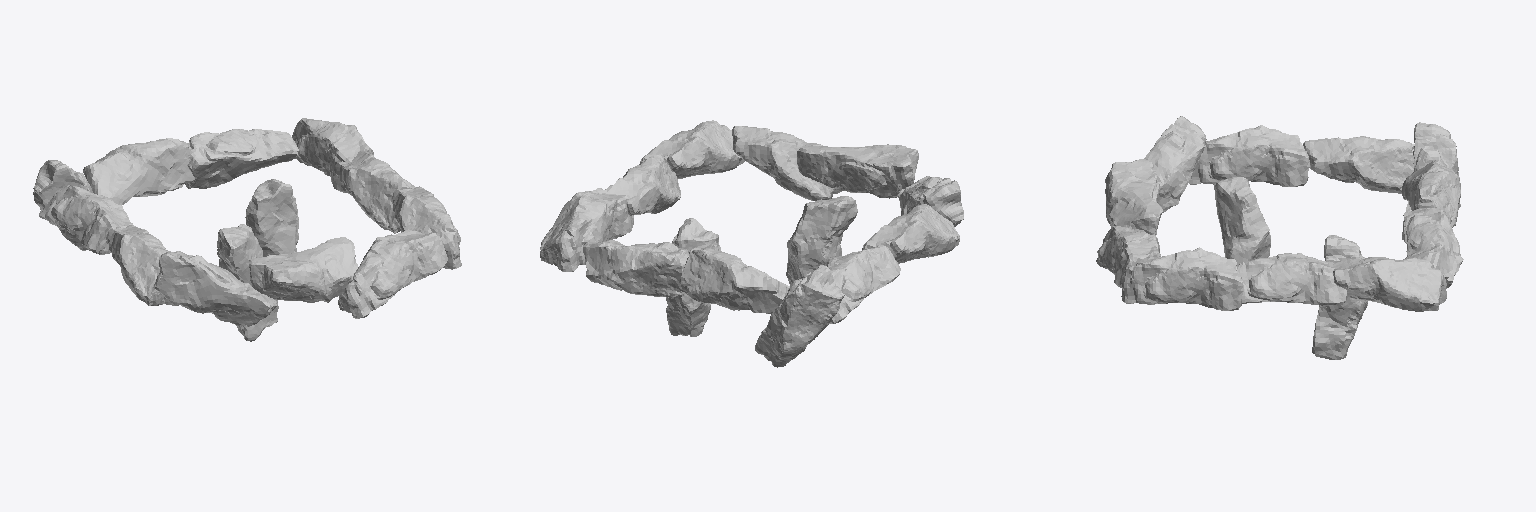
File: rocks.obj
3 views of the same model, side by side, from view 1: azimuth 30°, elevation 25°; view 2: azimuth 150°, elevation 25°; view 3: azimuth 270°, elevation 25° (orthographic).
Parts seen in each view (by area): view 1: Stone_01_Base.005_Stone_01_Base.020, Stone_01_Base.009_Stone_01_Base.024, Stone_01_Base.006_Stone_01_Base.021, Stone_01_Base.008_Stone_01_Base.023, Stone_01_Base.007_Stone_01_Base.022, Stone_01_Base.015, Stone_01_Base.004_Stone_01_Base.019, Stone_01_Base.011_Stone_01_Base.026, Stone_01_Base.001_Stone_01_Base.016, Stone_01_Base.003_Stone_01_Base.018, Stone_01_Base.002_Stone_01_Base.017, Stone_01_Base.010_Stone_01_Base.025 (+1 smaller); view 2: Stone_01_Base.006_Stone_01_Base.021, Stone_01_Base.007_Stone_01_Base.022, Stone_01_Base.012_Stone_01_Base.027, Stone_01_Base.008_Stone_01_Base.023, Stone_01_Base.001_Stone_01_Base.016, Stone_01_Base.010_Stone_01_Base.025, Stone_01_Base.005_Stone_01_Base.020, Stone_01_Base.002_Stone_01_Base.017, Stone_01_Base.003_Stone_01_Base.018, Stone_01_Base.015, Stone_01_Base.004_Stone_01_Base.019, Stone_01_Base.011_Stone_01_Base.026 (+1 smaller); view 3: Stone_01_Base.002_Stone_01_Base.017, Stone_01_Base.003_Stone_01_Base.018, Stone_01_Base.001_Stone_01_Base.016, Stone_01_Base.015, Stone_01_Base.004_Stone_01_Base.019, Stone_01_Base.010_Stone_01_Base.025, Stone_01_Base.006_Stone_01_Base.021, Stone_01_Base.009_Stone_01_Base.024, Stone_01_Base.011_Stone_01_Base.026, Stone_01_Base.007_Stone_01_Base.022, Stone_01_Base.008_Stone_01_Base.023, Stone_01_Base.005_Stone_01_Base.020 (+1 smaller).
Boxes of the visible parts, x1=… form: Stone_01_Base.005_Stone_01_Base.020: x1=338, y1=229, x2=447, y2=318; Stone_01_Base.009_Stone_01_Base.024: x1=153, y1=251, x2=276, y2=326; Stone_01_Base.006_Stone_01_Base.021: x1=249, y1=237, x2=357, y2=302; Stone_01_Base.008_Stone_01_Base.023: x1=83, y1=138, x2=194, y2=204; Stone_01_Base.007_Stone_01_Base.022: x1=184, y1=129, x2=298, y2=188; Stone_01_Base.015: x1=39, y1=185, x2=132, y2=254; Stone_01_Base.004_Stone_01_Base.019: x1=335, y1=151, x2=415, y2=233; Stone_01_Base.011_Stone_01_Base.026: x1=245, y1=179, x2=298, y2=256; Stone_01_Base.001_Stone_01_Base.016: x1=292, y1=118, x2=373, y2=192; Stone_01_Base.003_Stone_01_Base.018: x1=106, y1=225, x2=178, y2=305; Stone_01_Base.002_Stone_01_Base.017: x1=392, y1=186, x2=461, y2=269; Stone_01_Base.010_Stone_01_Base.025: x1=217, y1=224, x2=278, y2=341; Stone_01_Base.006_Stone_01_Base.021: x1=797, y1=144, x2=918, y2=198; Stone_01_Base.007_Stone_01_Base.022: x1=583, y1=240, x2=688, y2=298; Stone_01_Base.012_Stone_01_Base.027: x1=755, y1=265, x2=844, y2=367; Stone_01_Base.008_Stone_01_Base.023: x1=680, y1=247, x2=789, y2=313; Stone_01_Base.001_Stone_01_Base.016: x1=540, y1=188, x2=633, y2=271; Stone_01_Base.010_Stone_01_Base.025: x1=786, y1=196, x2=857, y2=285; Stone_01_Base.005_Stone_01_Base.020: x1=732, y1=126, x2=842, y2=200; Stone_01_Base.002_Stone_01_Base.017: x1=639, y1=120, x2=744, y2=178; Stone_01_Base.003_Stone_01_Base.018: x1=862, y1=204, x2=959, y2=263; Stone_01_Base.015: x1=826, y1=245, x2=900, y2=323; Stone_01_Base.004_Stone_01_Base.019: x1=605, y1=155, x2=680, y2=215; Stone_01_Base.011_Stone_01_Base.026: x1=666, y1=218, x2=720, y2=336; Stone_01_Base.002_Stone_01_Base.017: x1=1121, y1=247, x2=1243, y2=310; Stone_01_Base.003_Stone_01_Base.018: x1=1189, y1=125, x2=1309, y2=186; Stone_01_Base.001_Stone_01_Base.016: x1=1325, y1=257, x2=1446, y2=311; Stone_01_Base.015: x1=1303, y1=136, x2=1414, y2=193; Stone_01_Base.004_Stone_01_Base.019: x1=1236, y1=253, x2=1347, y2=305; Stone_01_Base.010_Stone_01_Base.025: x1=1214, y1=177, x2=1270, y2=265; Stone_01_Base.006_Stone_01_Base.021: x1=1105, y1=159, x2=1162, y2=234; Stone_01_Base.009_Stone_01_Base.024: x1=1144, y1=116, x2=1206, y2=212; Stone_01_Base.011_Stone_01_Base.026: x1=1312, y1=235, x2=1367, y2=359; Stone_01_Base.007_Stone_01_Base.022: x1=1403, y1=208, x2=1463, y2=287; Stone_01_Base.008_Stone_01_Base.023: x1=1402, y1=159, x2=1460, y2=227; Stone_01_Base.005_Stone_01_Base.020: x1=1096, y1=226, x2=1160, y2=287.
Size of the model in its own units: 108 by 48.19 by 111.